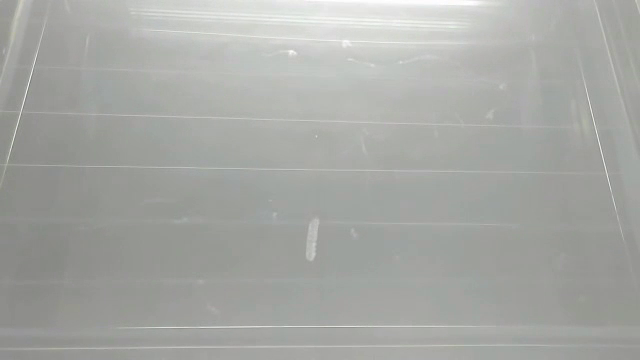alpha: (304, 216, 322, 264)
